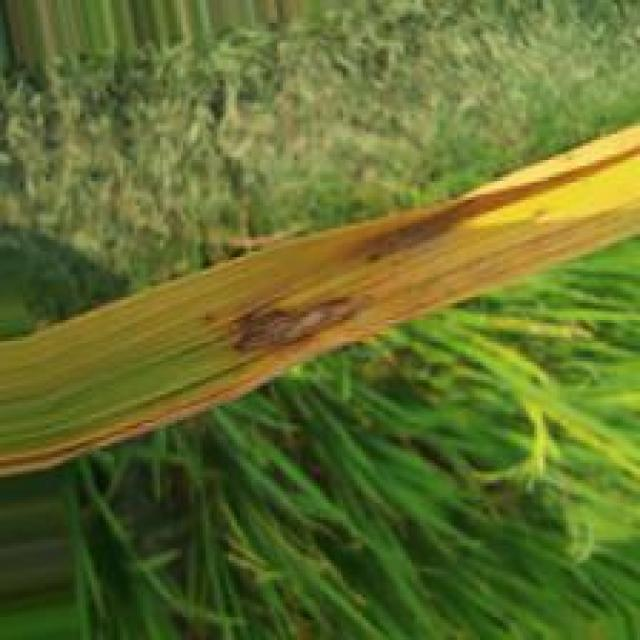Leaf_Blast: (222, 289, 373, 365)
